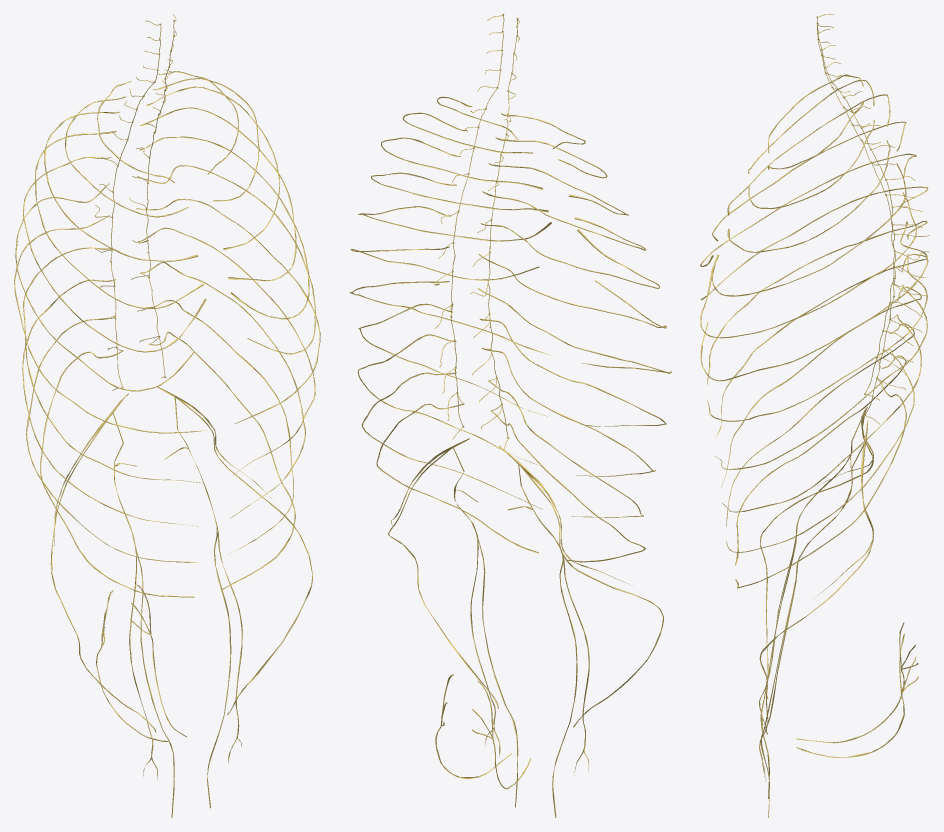
Rendered from trunk-and-pelvic-nerves.glb.
The picture shows the model from 3 angles, left to right: view 1: azimuth 30°, elevation 25°; view 2: azimuth 150°, elevation 25°; view 3: azimuth 270°, elevation 25°; orthographic projection. The views are drawn at different scales.
Visible parts, largest first — view 1: ZA_intercostal_nerves_r, ZA_intercostal_nerves_l, ZA_ilio_inguinal_nerve_l, ZA_ilio_inguinal_nerve_r; view 2: ZA_intercostal_nerves_l, ZA_intercostal_nerves_r, ZA_ilio_inguinal_nerve_r, ZA_sympathetic_trunk_l; view 3: ZA_intercostal_nerves_l, ZA_intercostal_nerves_r, ZA_ilio_inguinal_nerve_r, ZA_sympathetic_trunk_l, ZA_sympathetic_nerves_l, ZA_ilio_inguinal_nerve_l, ZA_pudendal_nerve_l, ZA_sympathetic_trunk_r, ZA_sympathetic_nerves_r, ZA_genital_branch_of_genitofemoral_nerve_r.
Part boxes in pixels (left/top/right/bottom): ZA_intercostal_nerves_r: left=14, top=81, right=207, bottom=597; ZA_intercostal_nerves_l: left=136, top=71, right=320, bottom=590; ZA_ilio_inguinal_nerve_l: left=175, top=396, right=312, bottom=714; ZA_ilio_inguinal_nerve_r: left=50, top=422, right=156, bottom=732; ZA_intercostal_nerves_l: left=349, top=96, right=552, bottom=553; ZA_intercostal_nerves_r: left=478, top=113, right=671, bottom=562; ZA_ilio_inguinal_nerve_r: left=521, top=467, right=663, bottom=727; ZA_sympathetic_trunk_l: left=450, top=15, right=504, bottom=439; ZA_intercostal_nerves_l: left=700, top=100, right=928, bottom=588; ZA_intercostal_nerves_r: left=700, top=74, right=928, bottom=565; ZA_ilio_inguinal_nerve_r: left=760, top=413, right=873, bottom=698; ZA_sympathetic_trunk_l: left=817, top=23, right=895, bottom=424; ZA_sympathetic_nerves_l: left=818, top=40, right=929, bottom=390; ZA_ilio_inguinal_nerve_l: left=759, top=442, right=873, bottom=734; ZA_pudendal_nerve_l: left=796, top=634, right=918, bottom=758; ZA_sympathetic_trunk_r: left=817, top=14, right=895, bottom=400; ZA_sympathetic_nerves_r: left=819, top=29, right=929, bottom=374; ZA_genital_branch_of_genitofemoral_nerve_r: left=760, top=517, right=799, bottom=798.
Bounding box in the file's own units: 0.2657 × 0.7222 × 0.1904.
